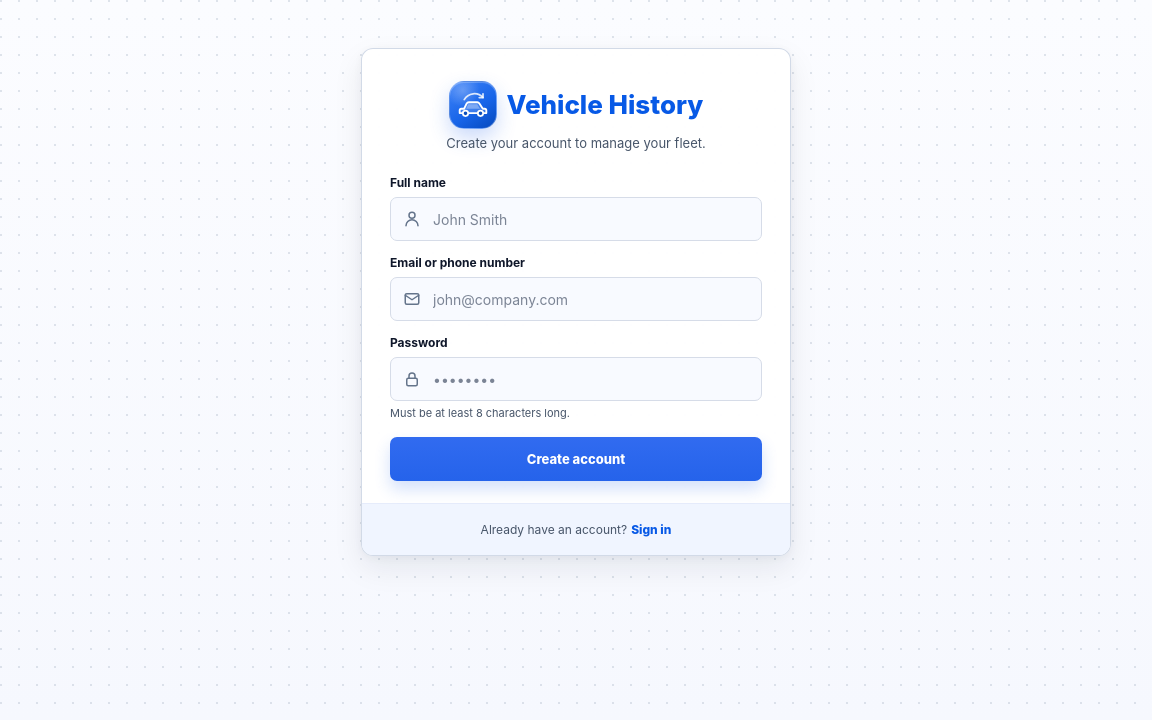
RegisterPage › translates field errors returned by the API
Step 1. Type "Driver One" into the field labelled "Full name" → (590, 219), box [431,198,749,240]
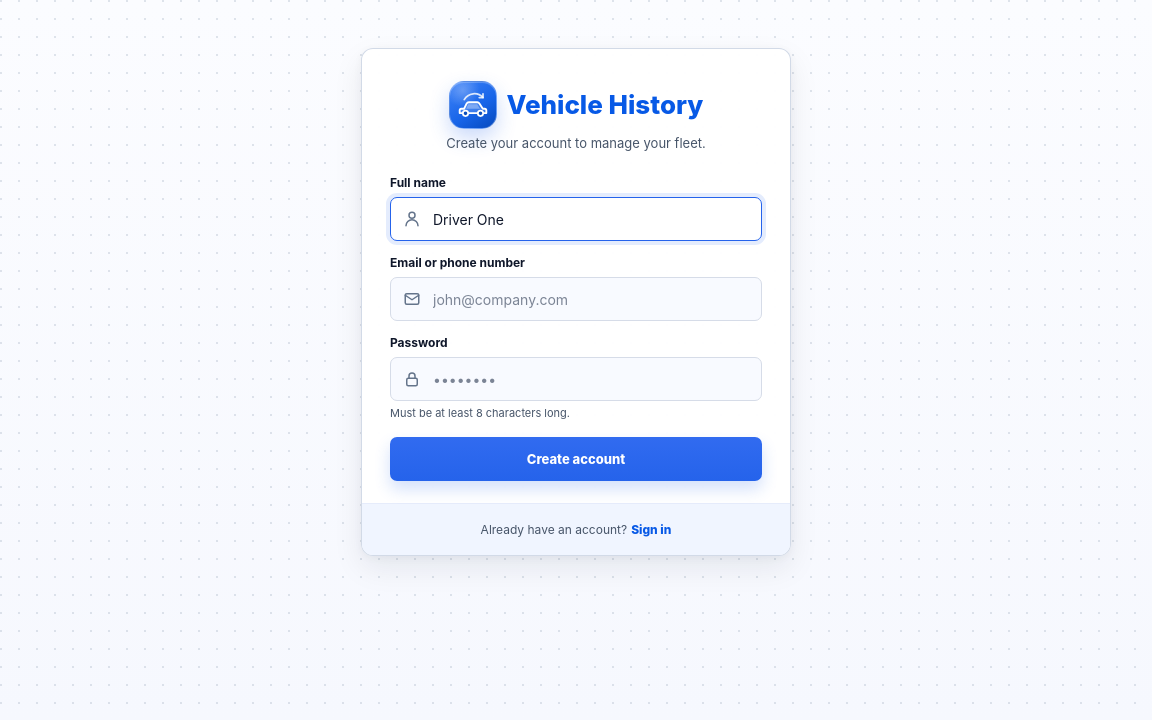
Step 2. Type "driver@example.com" into the field labelled "Email or phone number" → (590, 299), box [431,278,749,320]
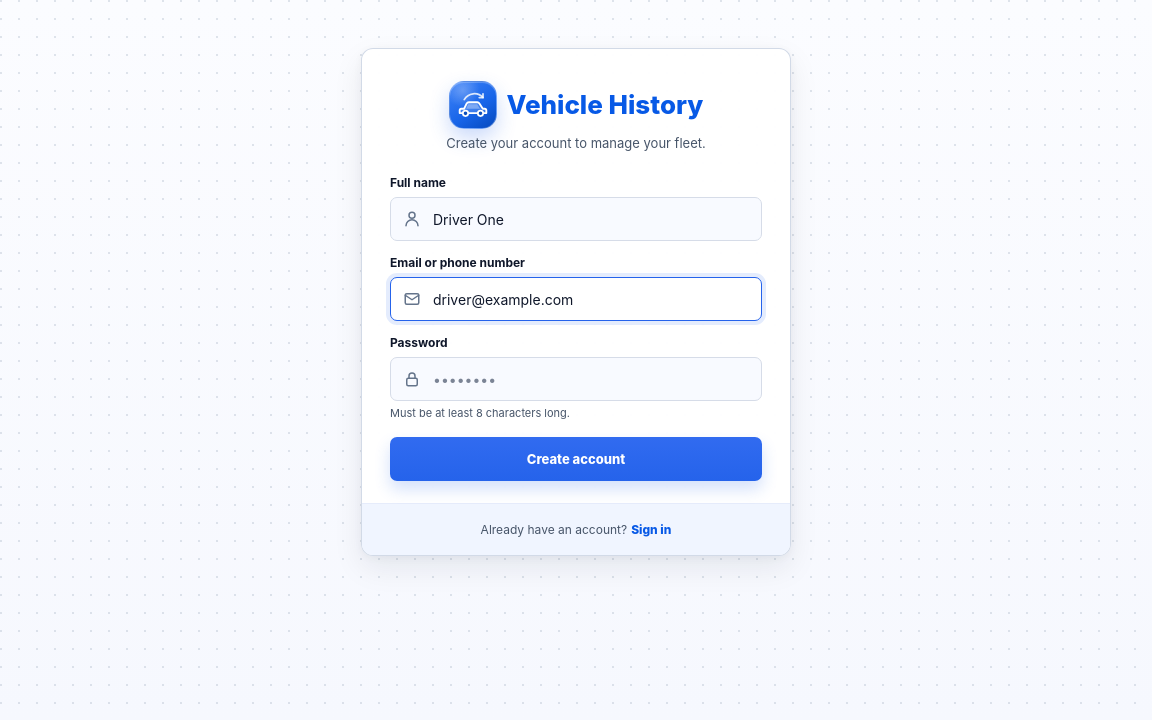
Step 3. Type "secret-password" into the password field labelled "Password" → (590, 379), box [431,358,749,400]
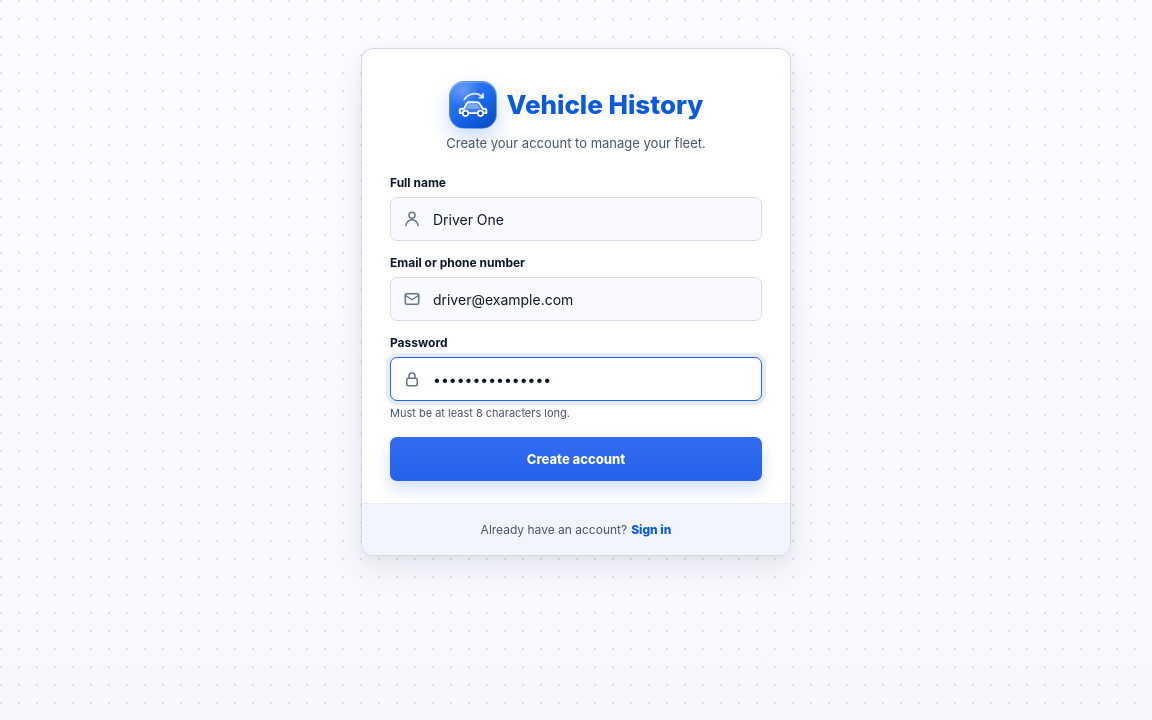
Step 4. Click the button "Create account" → (576, 459), box [390,437,762,481]
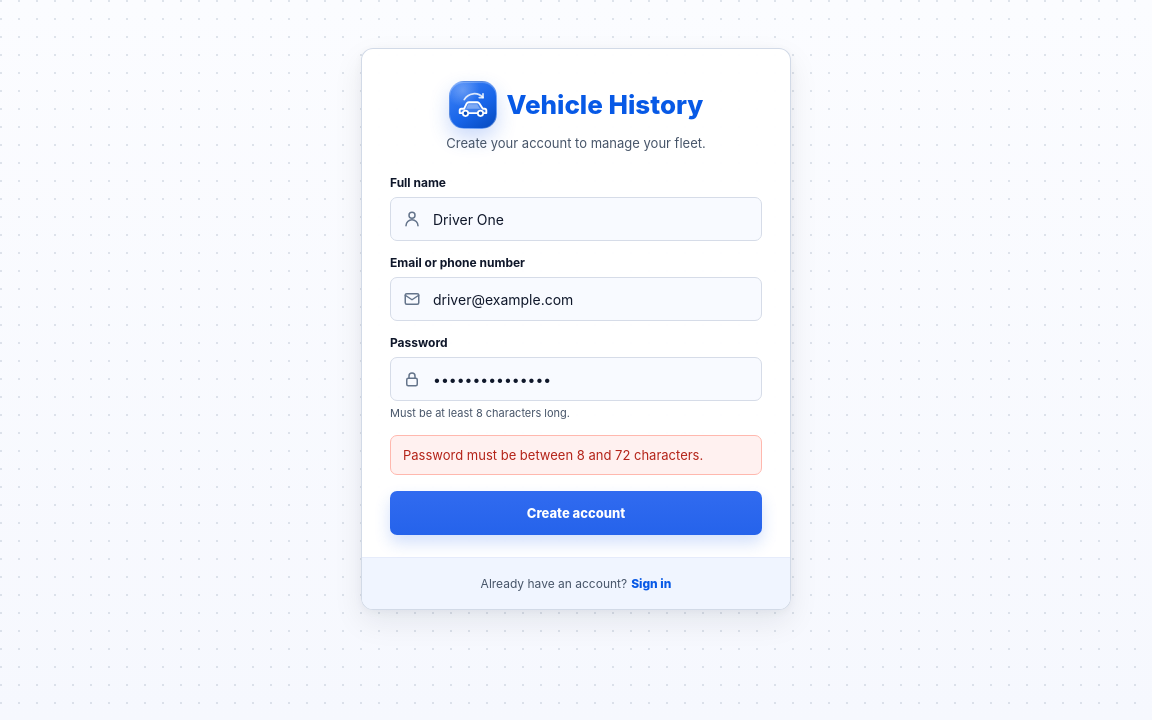
Now the message shows "Password must be between 8 and 72 characters", box [403,447,703,463]
